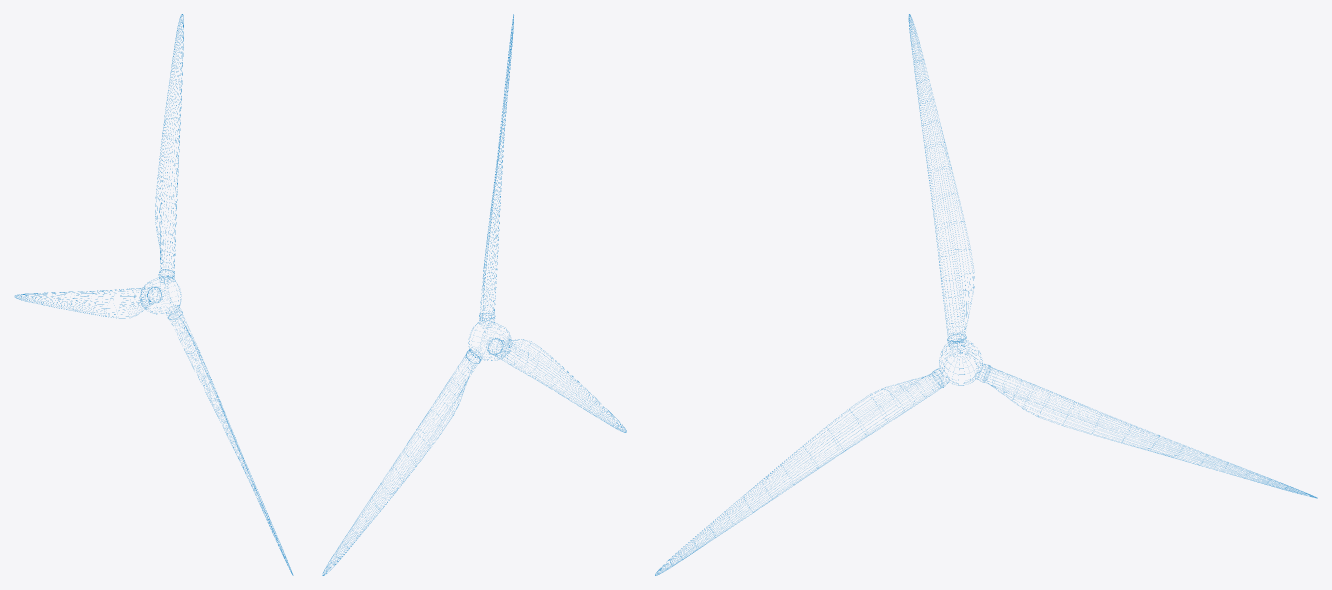
Rendered from yepian copy.glb.
The picture shows the model from 3 angles, left to right: view 1: azimuth 30°, elevation 25°; view 2: azimuth 150°, elevation 25°; view 3: azimuth 270°, elevation 25°; orthographic projection. The views are drawn at different scales.
Parts seen in each view (by area): view 1: 晶格_1; view 2: 晶格_1; view 3: 晶格_1.
Boxes of the visible parts, x1,y1,x2,y2 form: 晶格_1: (14, 14, 293, 575); 晶格_1: (322, 14, 626, 575); 晶格_1: (655, 14, 1317, 575).
Size of the model in its own units: 15.66 by 219 by 235.
